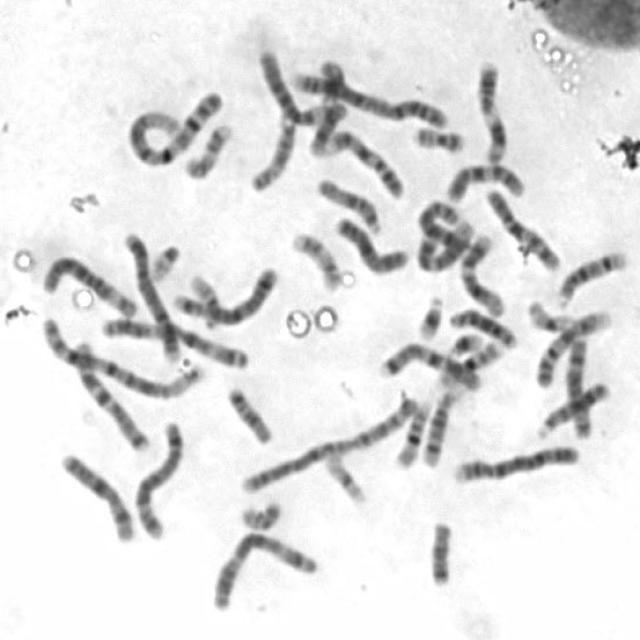A1: (35, 310, 204, 401), (122, 83, 226, 169)
A2: (234, 389, 427, 496), (287, 65, 450, 128)
A3: (206, 526, 321, 614), (98, 310, 254, 370)
B4: (117, 224, 184, 364), (446, 437, 581, 486)
B5: (169, 260, 282, 326), (129, 413, 185, 542)
C10: (480, 180, 564, 274), (441, 155, 528, 204)
C11: (472, 54, 512, 166), (311, 57, 346, 156)
C12: (456, 227, 508, 319), (413, 213, 477, 275)
C6: (254, 43, 348, 128), (38, 248, 140, 320)
C7: (68, 332, 154, 454), (374, 335, 485, 392)
C8: (561, 328, 595, 440), (413, 194, 470, 248)
C9: (532, 302, 614, 390), (322, 124, 407, 200)
D13: (531, 375, 612, 440), (444, 301, 520, 350)
D14: (551, 243, 629, 309), (416, 384, 462, 469)
D15: (244, 107, 299, 194), (312, 171, 384, 236)
E16: (430, 332, 506, 390), (389, 393, 434, 470)
E17: (286, 225, 344, 292), (178, 116, 235, 181)
E18: (222, 379, 276, 446), (424, 514, 456, 590)
F19: (320, 444, 370, 506), (522, 295, 574, 335)
F20: (408, 118, 468, 154), (235, 494, 285, 532)
G21: (411, 288, 445, 342), (442, 325, 485, 358)
G22: (186, 268, 223, 329), (145, 238, 183, 282)
X: (54, 446, 138, 544), (329, 210, 412, 278)
